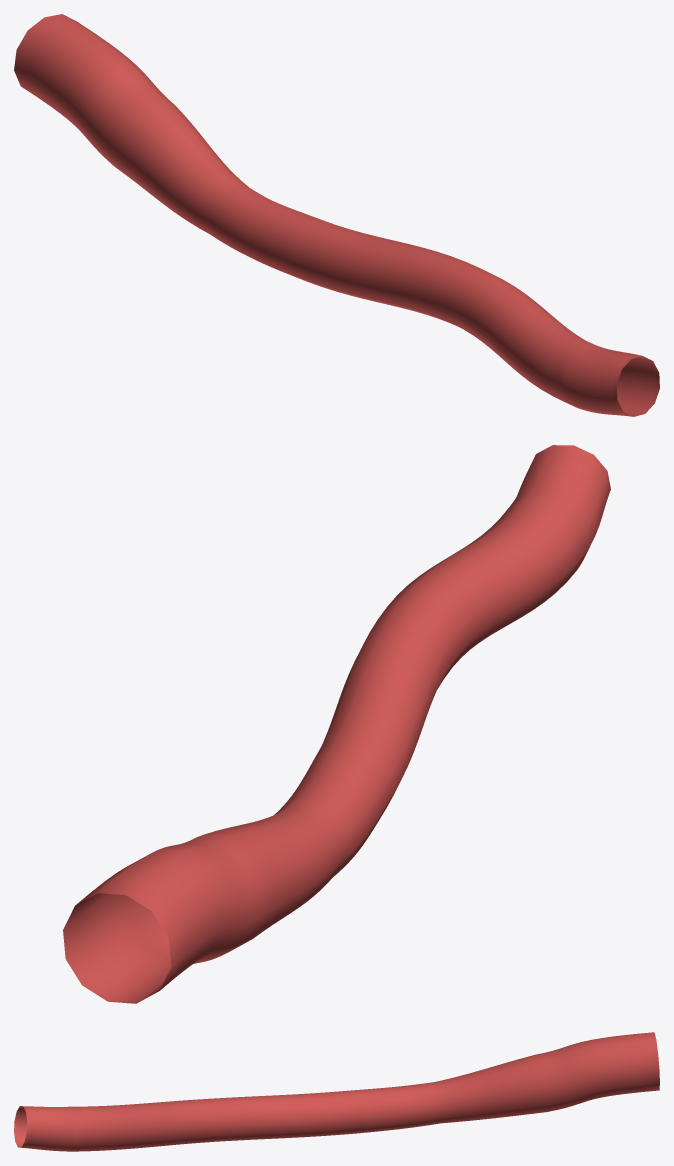
3 renders of one model, top to bottom at view 1: azimuth 30°, elevation 25°; view 2: azimuth 150°, elevation 25°; view 3: azimuth 270°, elevation 25°, orthographic. The views are drawn at different scales.
Visible parts, largest first — view 1: 左侧颈外动脉; view 2: 左侧颈外动脉; view 3: 左侧颈外动脉.
Boxes of the visible parts, x1=… form: 左侧颈外动脉: x1=14, y1=14, x2=659, y2=416; 左侧颈外动脉: x1=63, y1=445, x2=610, y2=1003; 左侧颈外动脉: x1=14, y1=1032, x2=659, y2=1151.
Size of the model in its own units: 0.0267 by 0.0155 by 0.1109.
